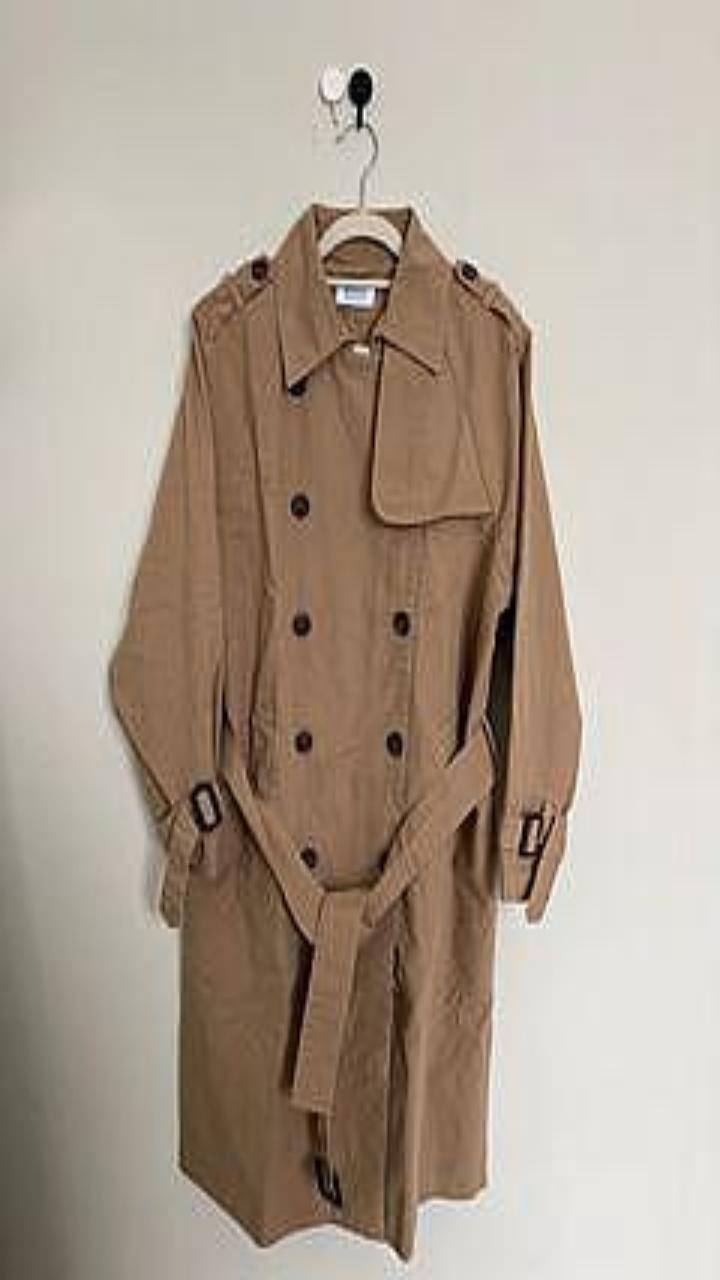Coat: (109, 202, 580, 1259)
